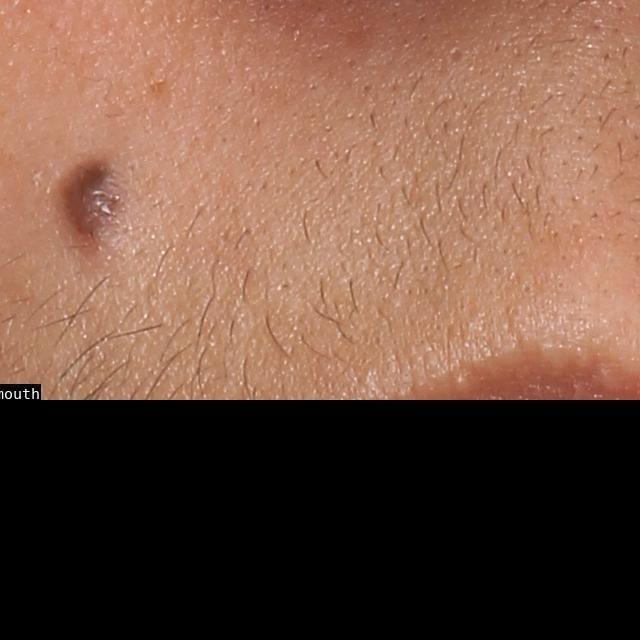nevus: (52, 127, 137, 249)
